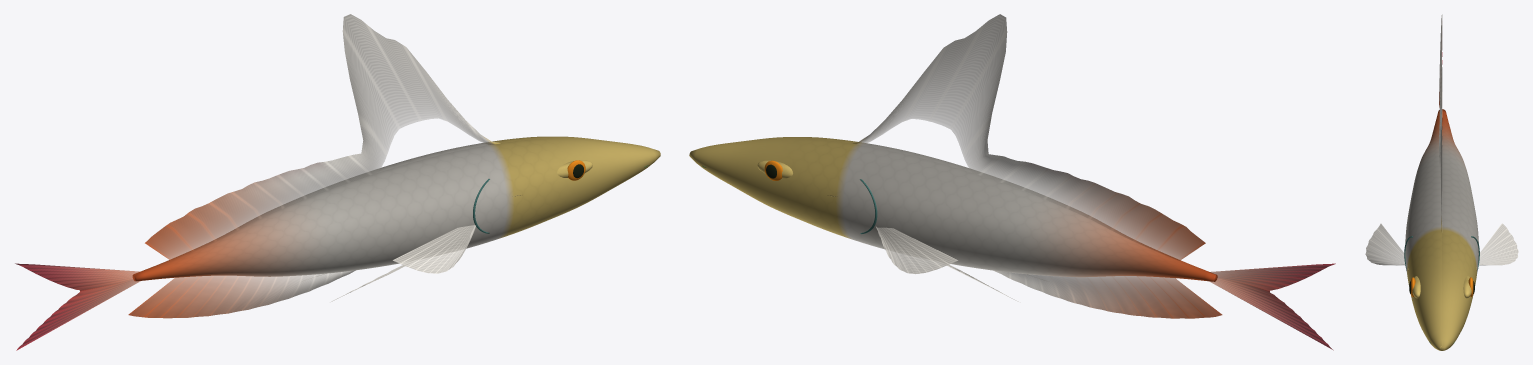
File: firefish.glb
The picture shows the model from 3 angles, left to right: view 1: azimuth 30°, elevation 25°; view 2: azimuth 150°, elevation 25°; view 3: azimuth 270°, elevation 25°; orthographic projection. The views are drawn at different scales.
Parts seen in each view (by area): view 1: Body, Median_Fins, Pectoral_Left, Eyes_Gills_Mouth; view 2: Body, Median_Fins, Pectoral_Right, Eyes_Gills_Mouth; view 3: Body, Pectoral_Right, Pectoral_Left, Median_Fins, Eyes_Gills_Mouth.
Boxes of the visible parts, x1,y1,x2,y2 form: Body: (133, 136, 660, 281); Median_Fins: (15, 14, 500, 350); Pectoral_Left: (393, 225, 475, 273); Eyes_Gills_Mouth: (473, 160, 648, 233); Body: (689, 137, 1217, 281); Median_Fins: (850, 14, 1335, 350); Pectoral_Right: (875, 226, 957, 273); Eyes_Gills_Mouth: (702, 160, 877, 234); Body: (1405, 109, 1478, 350); Pectoral_Right: (1479, 223, 1518, 265); Pectoral_Left: (1365, 223, 1405, 265); Median_Fins: (1439, 14, 1442, 232); Eyes_Gills_Mouth: (1404, 236, 1479, 343).
Bounding box in the file's own units: 0.8525 × 0.3422 × 0.1927.
Materials: 5 (2 with a texture image).
